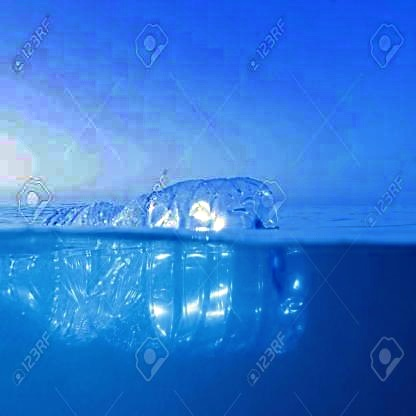pbottle: (32, 167, 306, 350)
